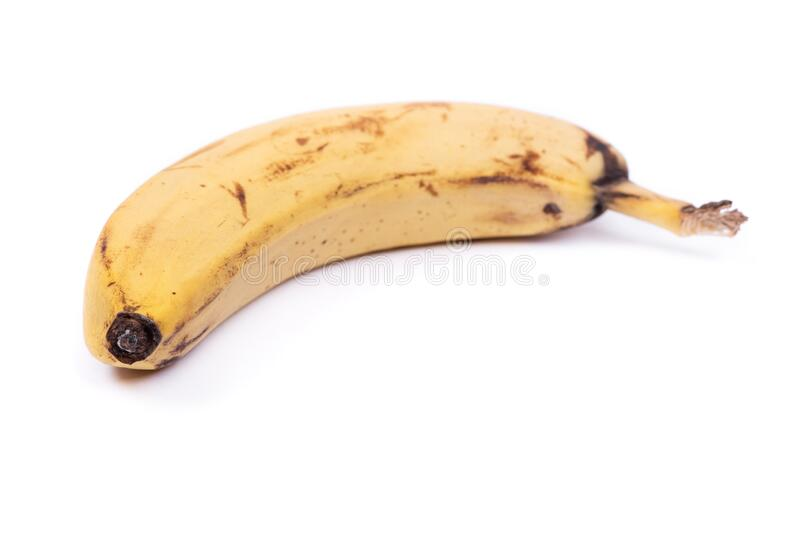looks_defective: (20, 58, 779, 496)
